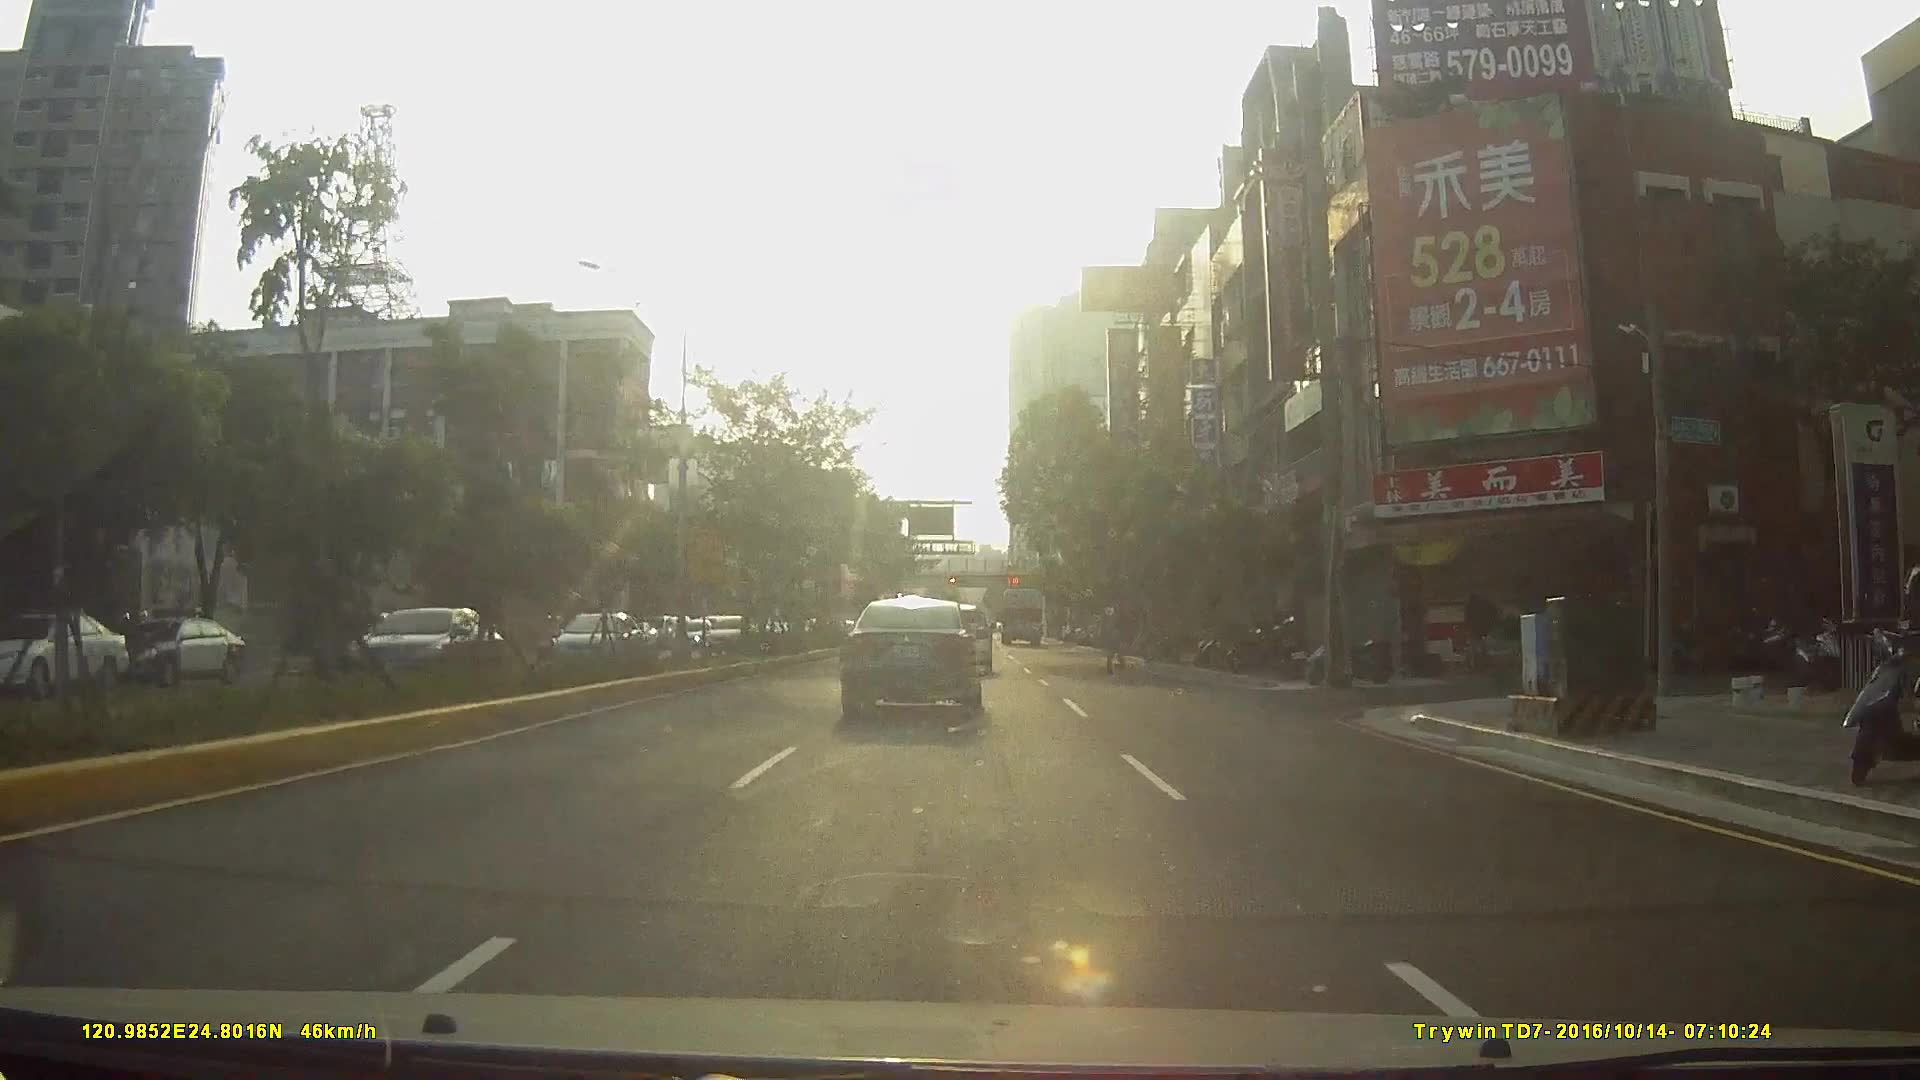pedestrian: (1099, 610, 1132, 679)
vehicle: (836, 596, 982, 720), (337, 609, 495, 691), (102, 613, 241, 690), (0, 611, 117, 700), (544, 611, 649, 680), (309, 613, 406, 681), (697, 616, 757, 663), (999, 588, 1043, 649), (571, 621, 618, 664)
